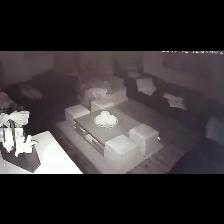person: (79, 87, 112, 107)
